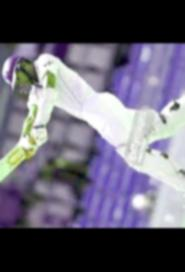batsman: (0, 46, 185, 210)
